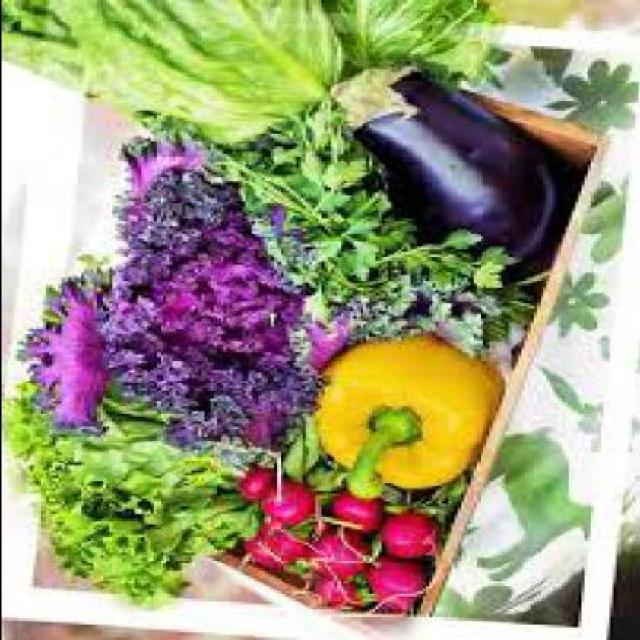BIODEGRADABLE: (126, 99, 529, 326), (95, 134, 317, 460), (1, 380, 257, 608), (2, 0, 346, 149), (327, 62, 573, 264), (307, 332, 504, 496), (275, 406, 463, 534), (9, 259, 108, 438), (316, 0, 498, 83), (300, 521, 372, 574), (362, 556, 422, 610), (257, 478, 311, 532), (374, 510, 437, 556), (235, 524, 298, 568), (323, 491, 377, 529), (294, 570, 354, 604), (232, 466, 266, 496)
